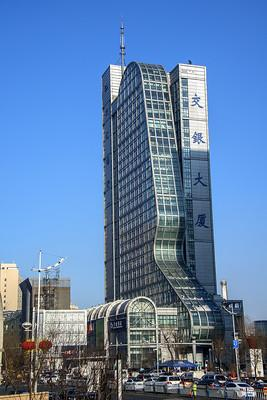building: (99, 52, 226, 386)
